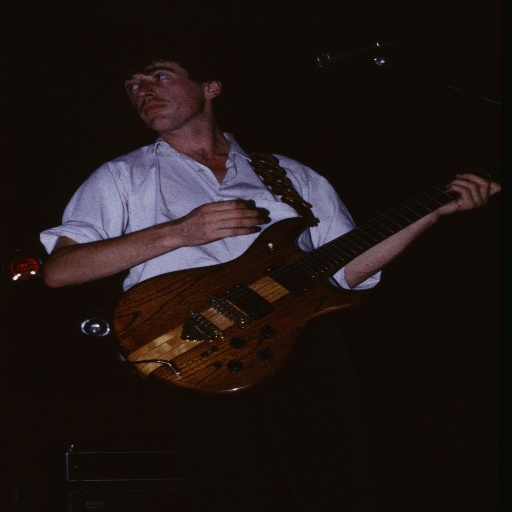hand: (143, 192, 279, 254), (431, 173, 501, 215)
